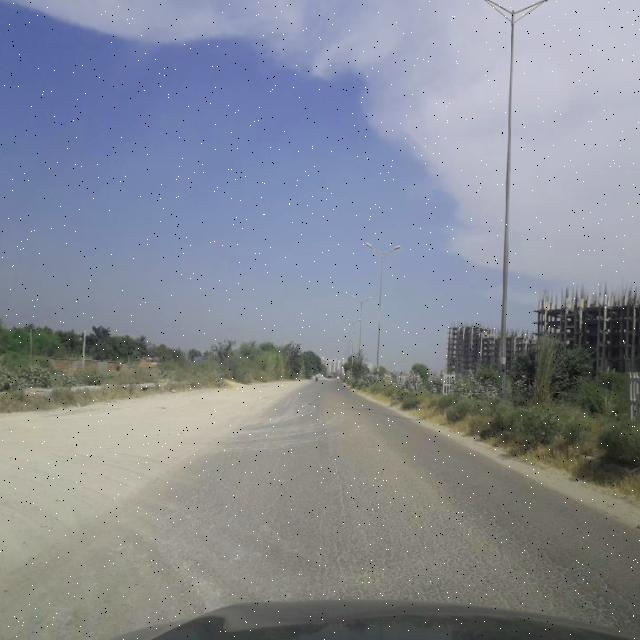D00: (310, 423, 376, 517)
D20: (228, 450, 639, 620)
